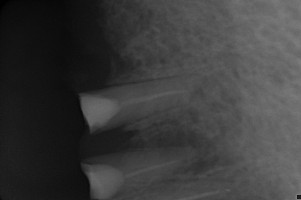Furcation Involvement: (125, 127, 221, 174)
